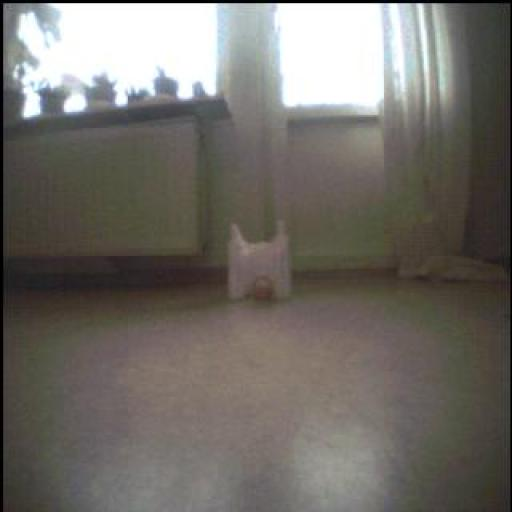Basket: (248, 275, 277, 303)
